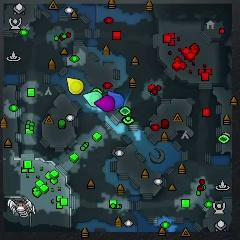p1: (107, 90, 125, 109)
p2: (83, 92, 102, 108)
p3: (95, 96, 114, 112)
p4: (67, 77, 84, 95)
